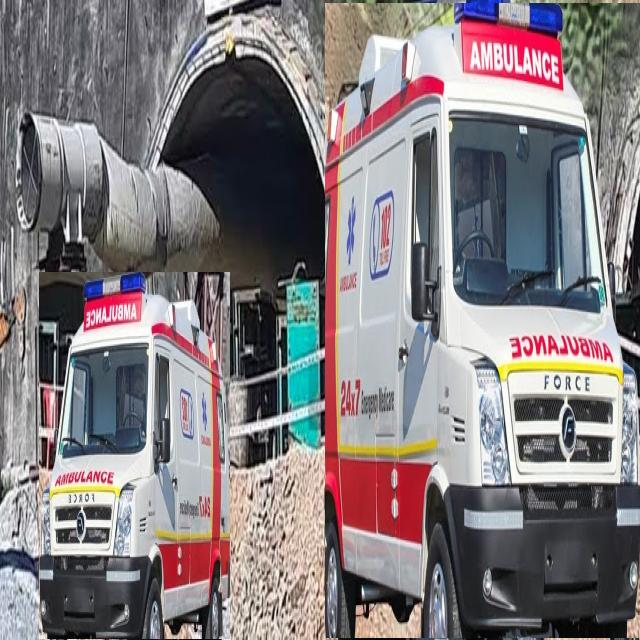emergency: (325, 3, 640, 638), (39, 272, 230, 639)
